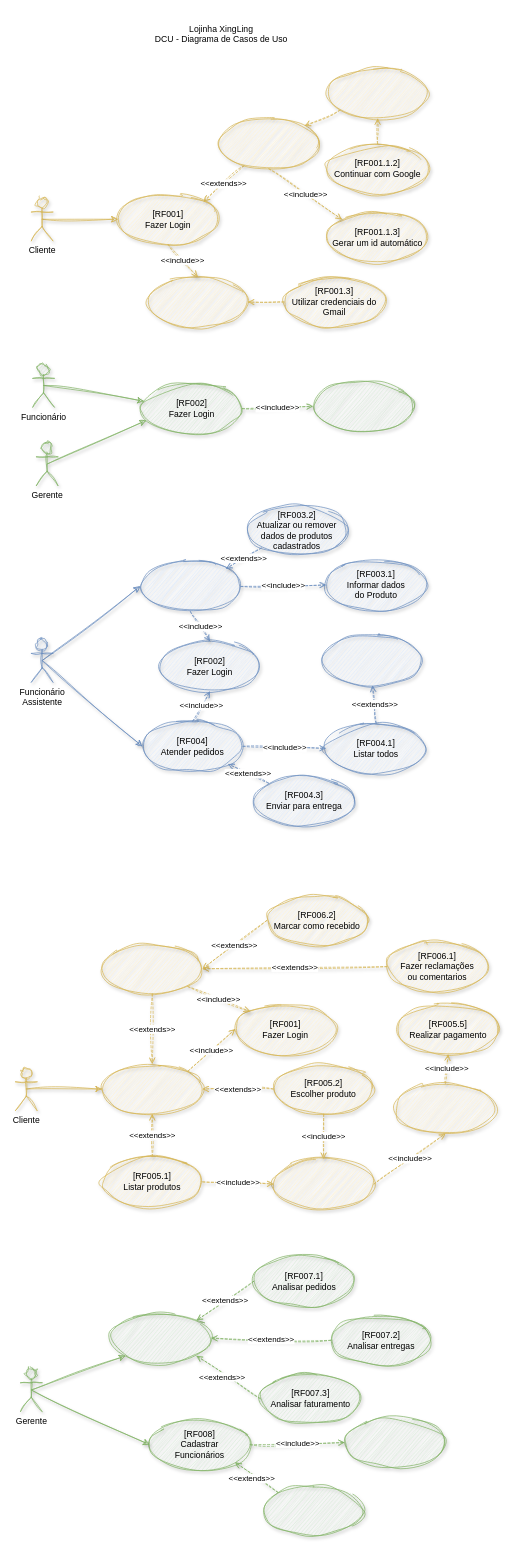
Some shapes in this 516 by 1553 pixel diagram are drawn without their labels. Each missing label, with the centre of its shape:
[RF001.1.1] Cadastrar nome, e-mail, senha e endereco: point (378, 93)
[RF001.1] Criar conta: point (269, 144)
[RF001.2] Informar E-mail e Senha: point (198, 302)
[RF002.1] Informar E-mail e Senha: point (363, 407)
[RF003] Cadastrar Produtos: point (190, 587)
[RF004.2] Filtrar por nome, produto, data: point (373, 661)
[RF005.3] Clicar em comprar: point (324, 1184)
[RF005.4] Revisar ou atualizar dados de entrega: point (445, 1109)
[RF005] Fazer Pedido: point (152, 1089)
[RF006] Acompanhar pedido: point (152, 969)
[RF007] Ver relatórios: point (161, 1338)
[RF008.1] Informar dados do funcionário: point (395, 1443)
[RF008.2] Administrar funcionários: point (314, 1510)
